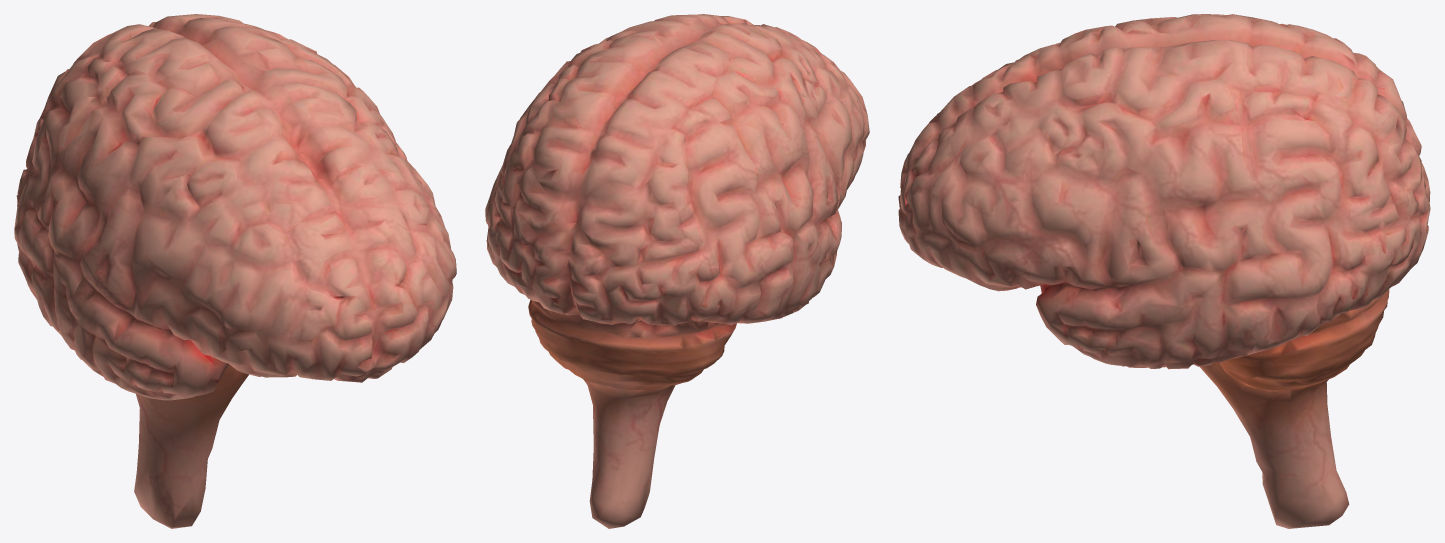
Rendered from brain.fbx.
The picture shows the model from 3 angles, left to right: view 1: azimuth 30°, elevation 25°; view 2: azimuth 150°, elevation 25°; view 3: azimuth 270°, elevation 25°; orthographic projection. The views are drawn at different scales.
Visible parts, largest first — view 1: Icosphere; view 2: Icosphere; view 3: Icosphere.
Part boxes in pixels (x1,y1,x2,y2): Icosphere: (14, 14, 456, 528); Icosphere: (485, 14, 869, 528); Icosphere: (898, 14, 1430, 528).
Bounding box in the file's own units: 11.62 × 17.38 × 16.95.
